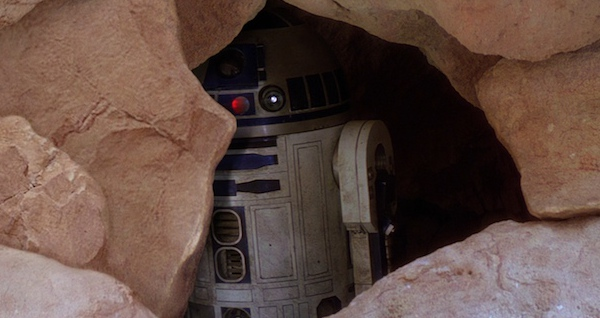r2d2: (189, 57, 396, 318)
